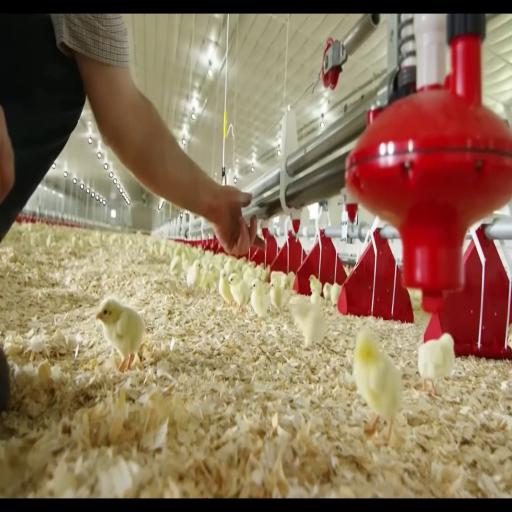chick: (354, 330, 402, 442), (96, 298, 145, 371), (418, 334, 455, 394), (289, 297, 326, 346), (251, 279, 270, 325), (229, 274, 250, 311), (218, 268, 234, 304), (186, 259, 202, 289), (270, 282, 287, 309), (208, 262, 219, 288), (243, 266, 257, 286), (309, 275, 322, 295), (170, 256, 181, 277), (331, 283, 341, 306), (224, 257, 236, 275), (286, 271, 296, 290), (271, 271, 286, 283), (310, 290, 321, 304), (323, 283, 331, 301), (261, 266, 269, 282)
